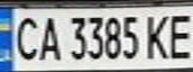3: (63, 12, 87, 62), (84, 12, 106, 61)
5: (121, 11, 145, 61)
8: (103, 12, 124, 61)
A: (36, 12, 63, 63)
C: (6, 12, 42, 63)
E: (163, 10, 193, 61)
K: (142, 11, 175, 61)
